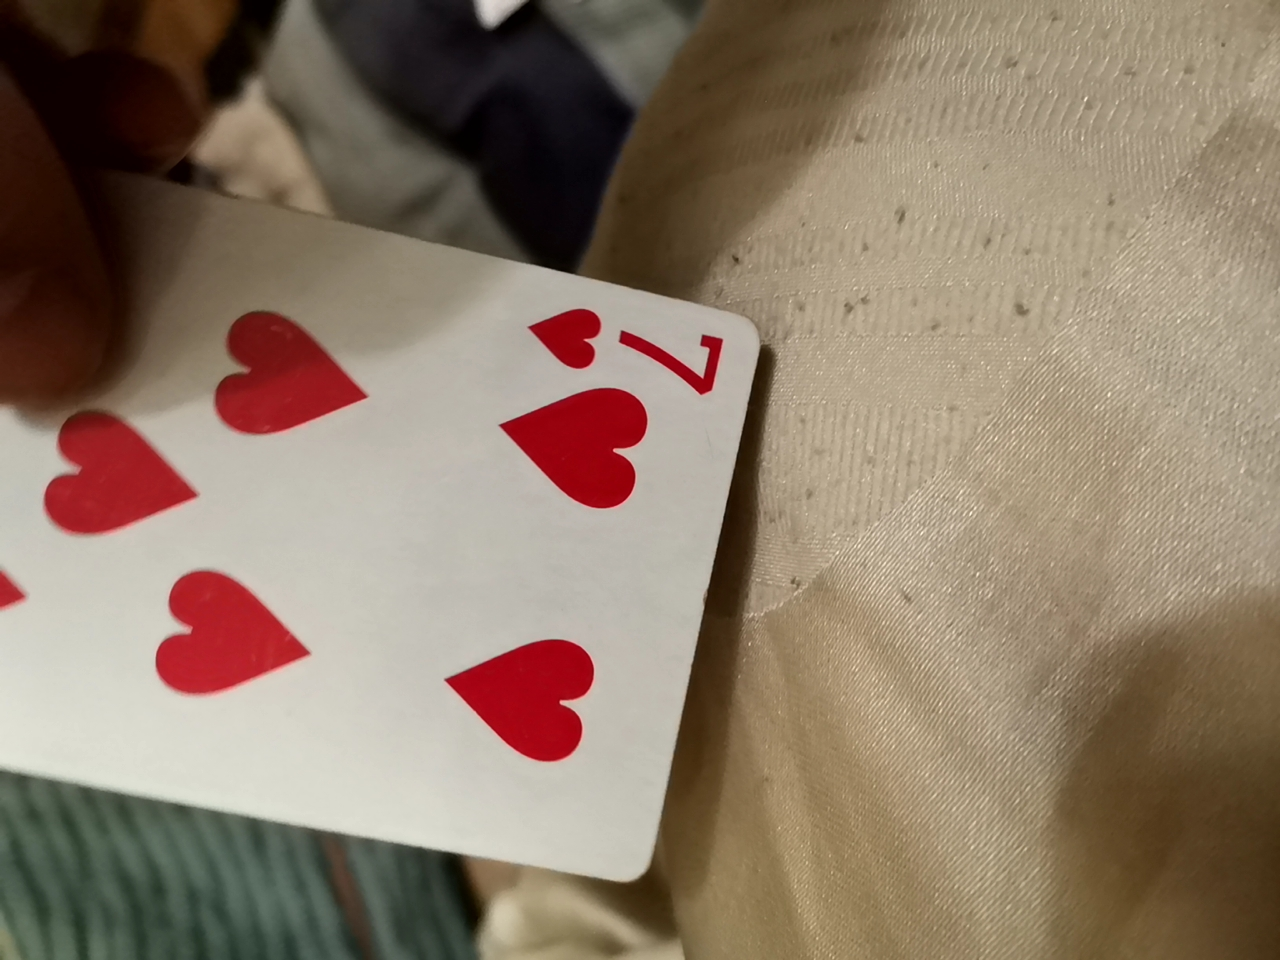hx 7: (0, 241, 786, 897)
